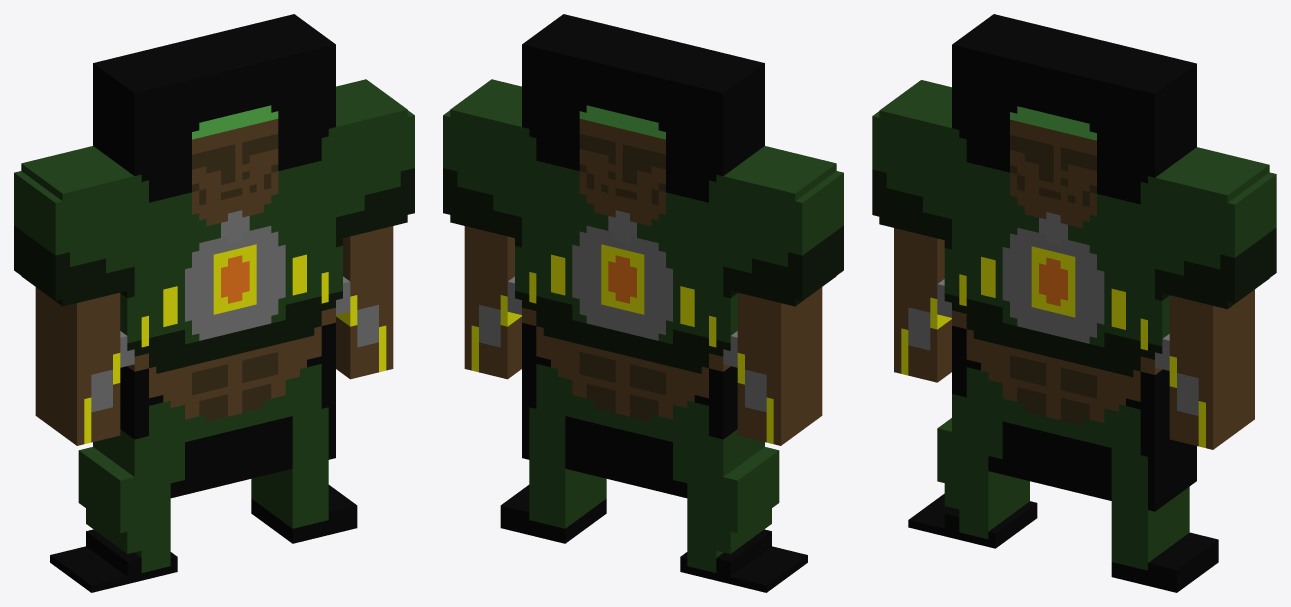
The model's file is gogogo.obj.
The picture shows the model from 3 angles, left to right: view 1: azimuth 30°, elevation 25°; view 2: azimuth 150°, elevation 25°; view 3: azimuth 330°, elevation 25°; orthographic projection.
Size of the model in its own units: 5 by 6.5 by 1.
1 material, 1 textured.
